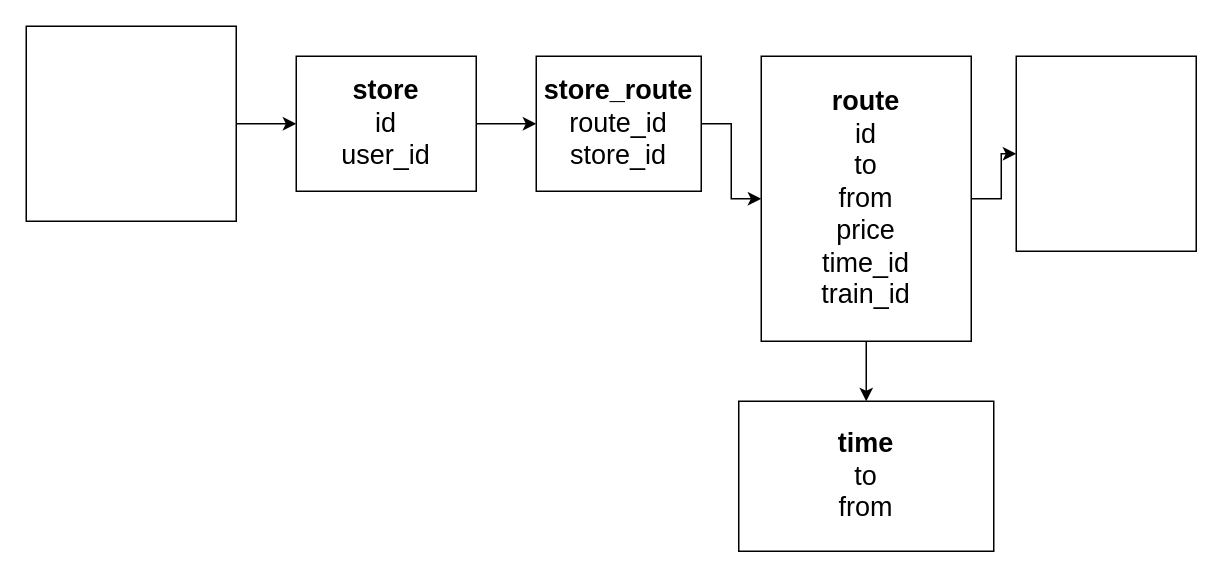
Image size: 1223x578. Some labels were removed from this diagram. Here are the shapes that lost their labels. From the top down, the centre of each, then its label:
At (x=130, y=123): "user id email password role".
At (x=1105, y=153): "train id type speed".
